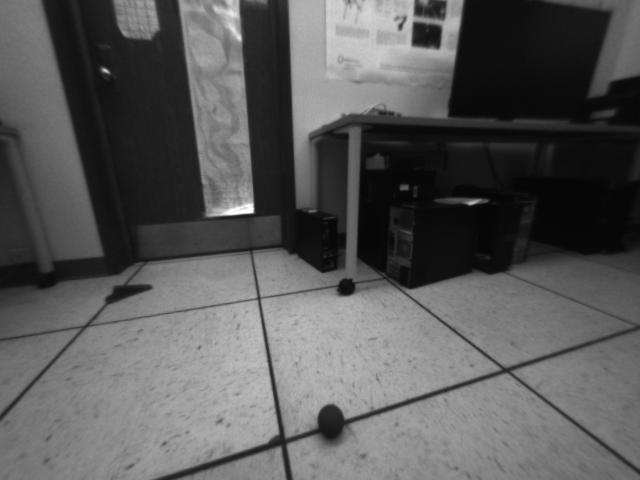dogtoy: (305, 397, 358, 448)
